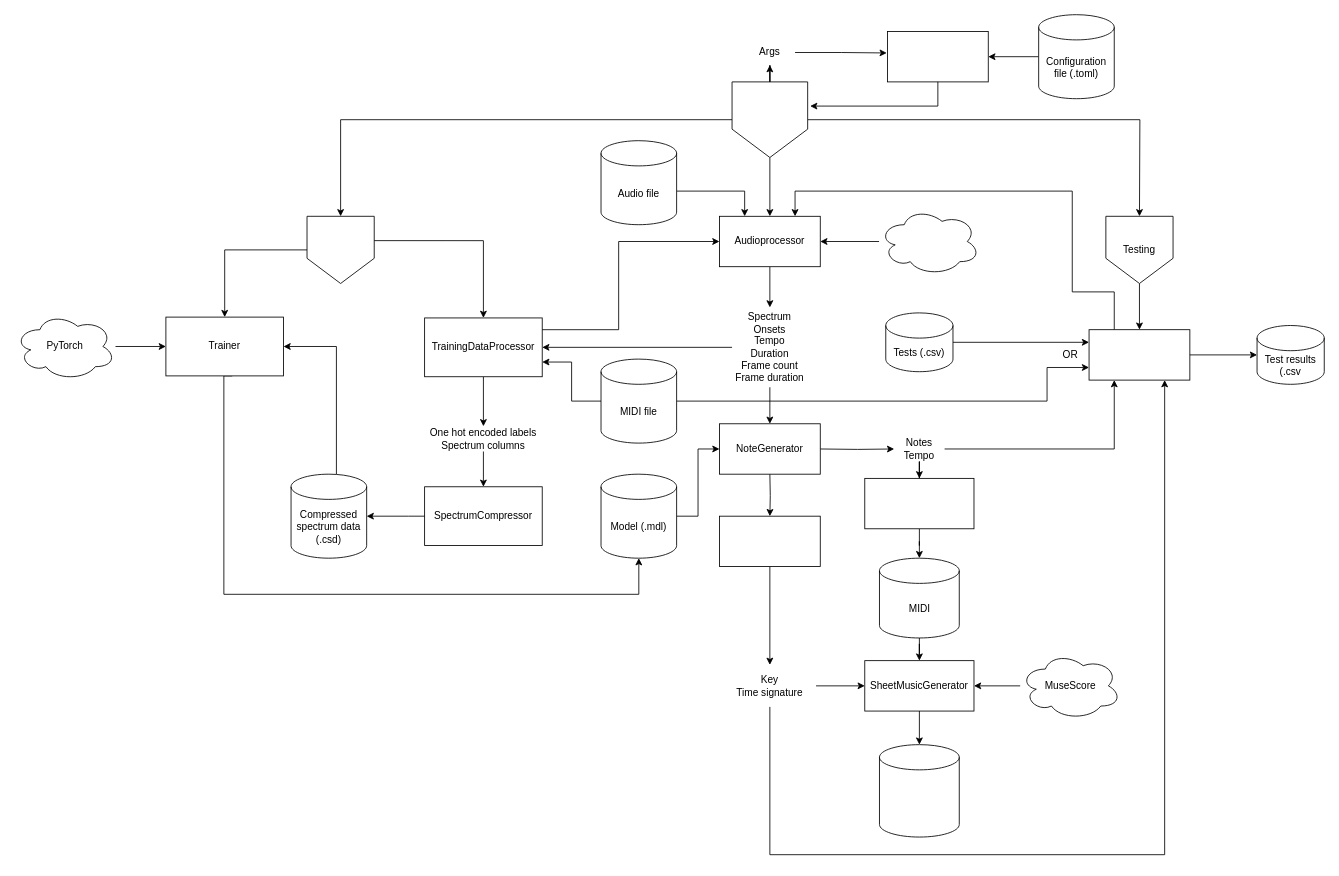
This 1339x876 diagram has some shape labels left out. Here are the shapes that lost their labels. From the top down, the centre of each, then its label:
pixel 937 56: Configurater
pixel 769 119: Transcription
pixel 340 249: Training
pixel 929 241: Librosa
pixel 1139 354: Tester
pixel 919 503: MIDIManager
pixel 769 541: MetadataProcessor
pixel 919 790: Sheet music (.pdf or .png)
